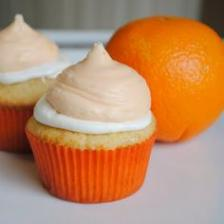orange: (106, 16, 224, 142), (26, 117, 156, 203), (0, 105, 33, 152)
